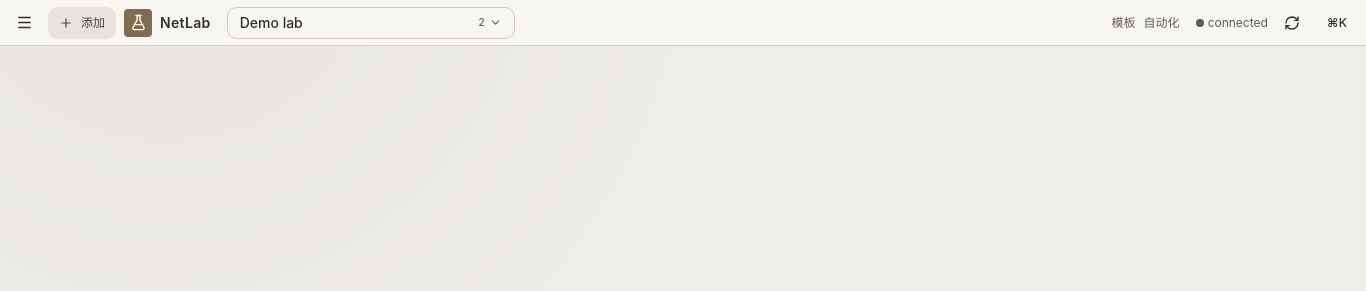
Test case: LaboratoryToolbar › uses one searchable vertical laboratory switcher
Click the dropdown with test id "laboratory-switcher" at x=271, y=22, box [227,6,515,38]
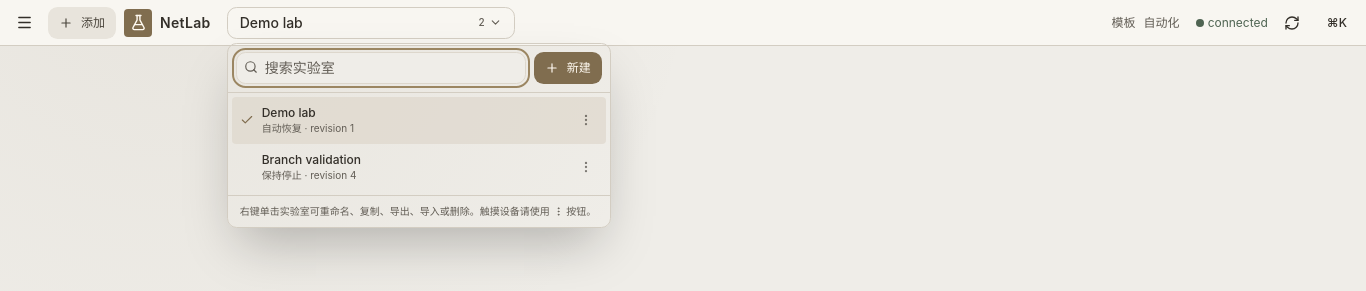
Expected: the list is shown, [228,92,610,194]
Type "branch" into the field named "搜索实验室" at x=381, y=68, box [236,52,526,84]
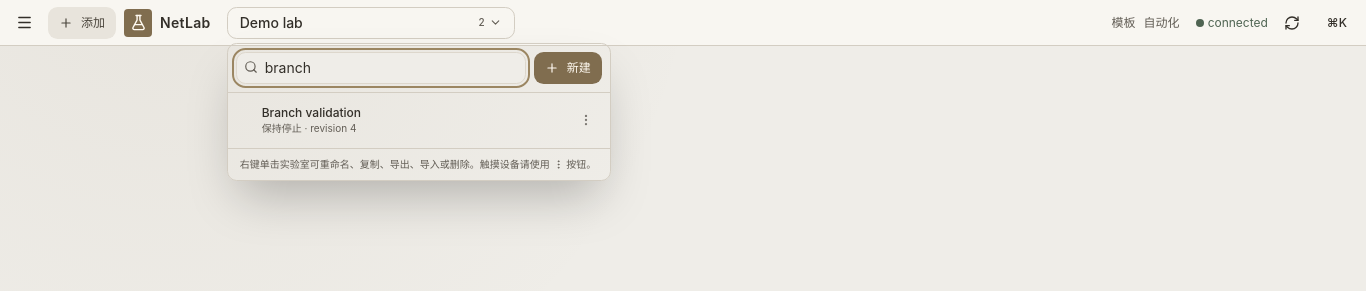
Expected: the option "Branch validation 保持停止 · revision 4" is shown
Expected: the number of options is 1
Click the option "Branch validation 保持停止 · revision 4" at x=311, y=112, box [232,96,570,144]
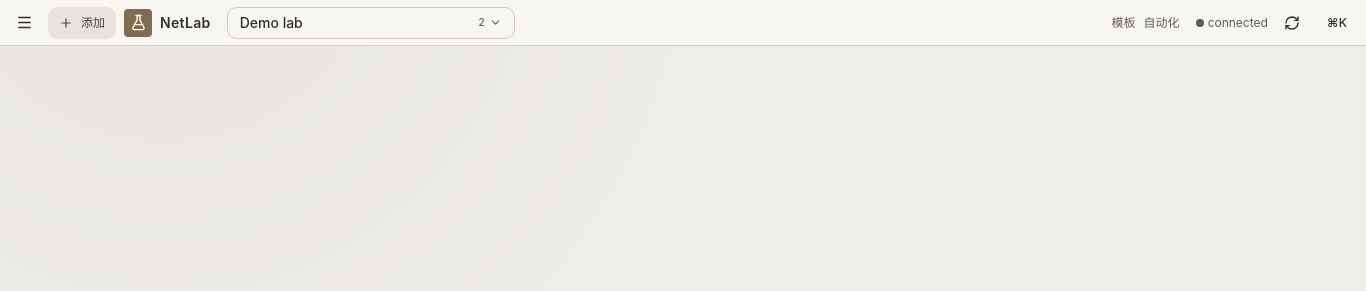
Expected: the list is gone
